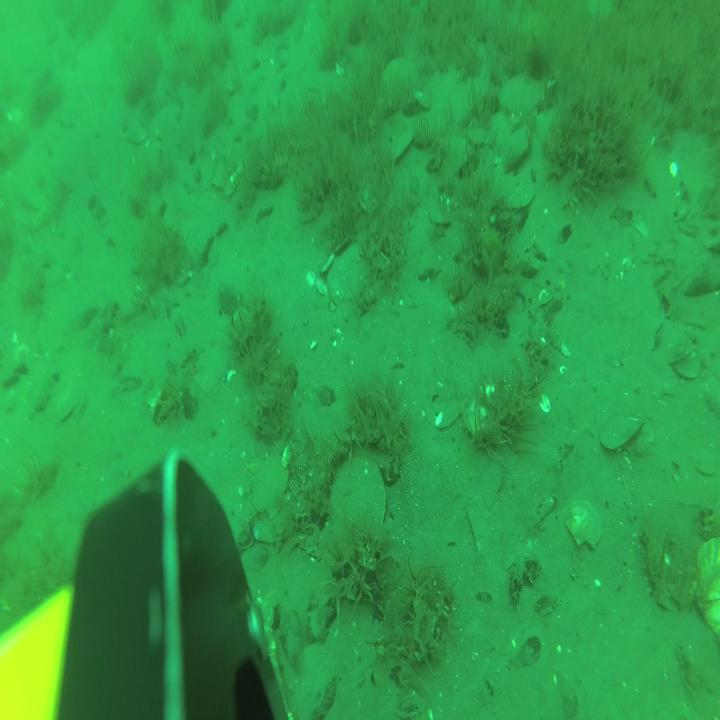scallop: (329, 453, 386, 549), (691, 518, 720, 645), (250, 448, 294, 522), (325, 237, 369, 307), (500, 68, 547, 131), (380, 55, 422, 111), (567, 496, 604, 550), (149, 99, 181, 146)
